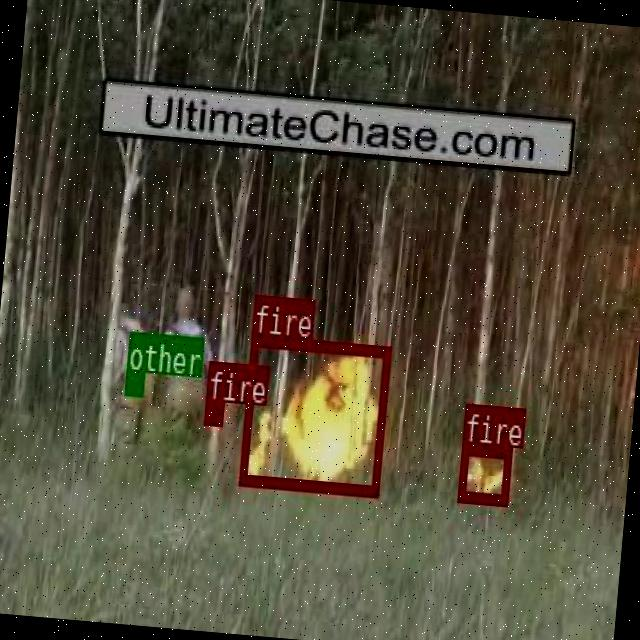fire: (237, 332, 390, 495), (456, 442, 510, 502), (202, 398, 223, 424)
